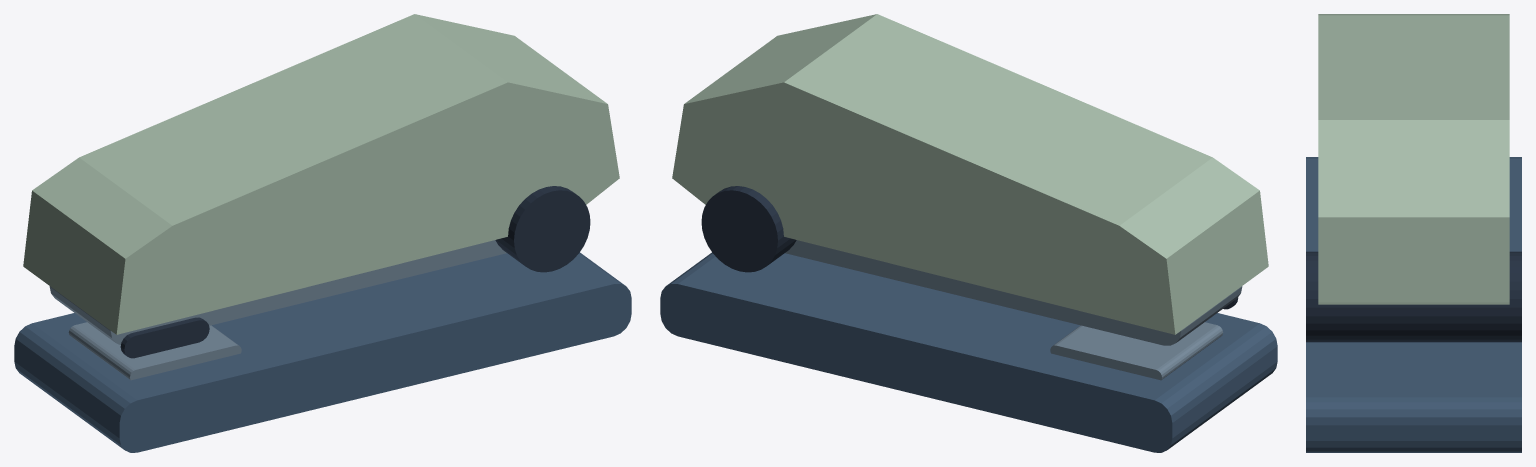
Rendered from nailer.glb.
The picture shows the model from 3 angles, left to right: view 1: azimuth 30°, elevation 25°; view 2: azimuth 150°, elevation 25°; view 3: azimuth 270°, elevation 25°; orthographic projection. The views are drawn at different scales.
Visible parts, largest first — view 1: lever, base, hinge, magazine, anvil, paper notch; view 2: lever, base, magazine, hinge, anvil; view 3: lever, base, hinge.
Part boxes in pixels (x1,y1,x2,y2): lever: [23, 14, 619, 334]; base: [14, 252, 631, 452]; hinge: [495, 186, 590, 272]; magazine: [49, 240, 506, 345]; anvil: [68, 322, 241, 380]; paper notch: [120, 317, 209, 358]; lever: [672, 14, 1268, 334]; base: [660, 252, 1277, 452]; magazine: [785, 240, 1242, 345]; hinge: [701, 186, 796, 272]; anvil: [1050, 322, 1223, 380]; lever: [1318, 14, 1509, 304]; base: [1306, 157, 1521, 452]; hinge: [1306, 251, 1521, 342].
Bounding box in the file's own units: 1.74 × 0.89 × 0.62.
